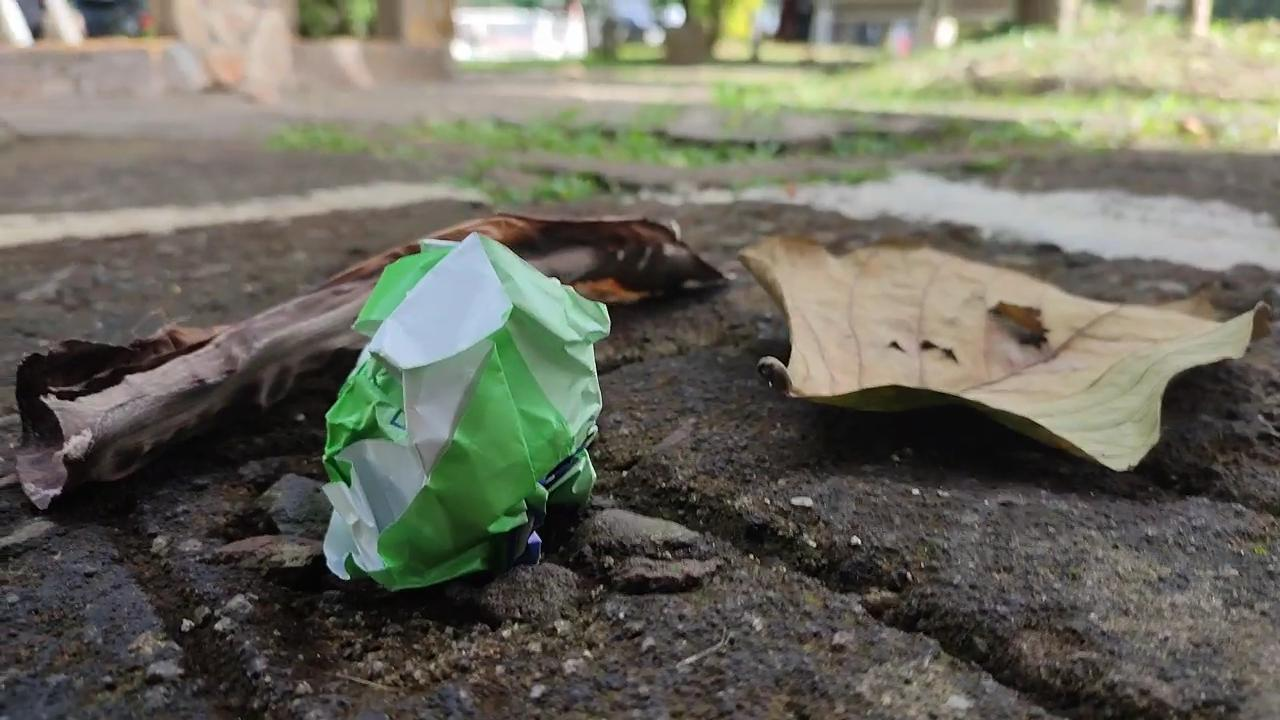Paper: (309, 215, 611, 607)
